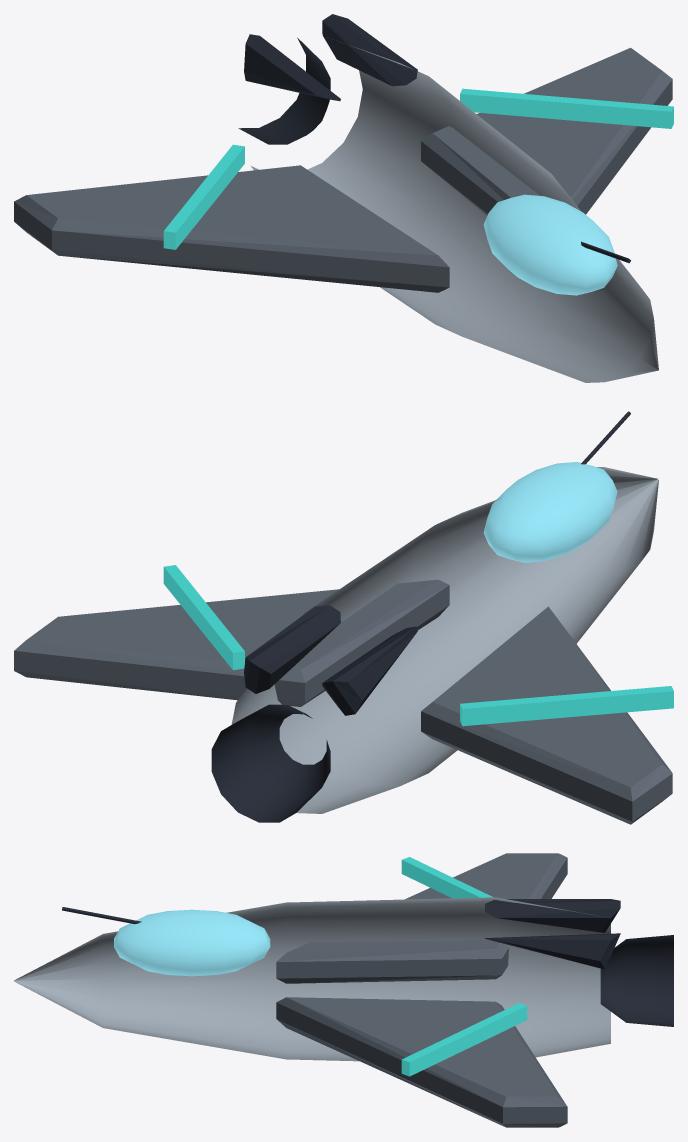
The model's file is scout.glb.
3 renders of one model, top to bottom at view 1: azimuth 30°, elevation 25°; view 2: azimuth 150°, elevation 25°; view 3: azimuth 270°, elevation 25°, orthographic. The views are drawn at different scales.
Visible parts, largest first — view 1: scout; view 2: scout; view 3: scout.
Boxes of the visible parts, x1,y1,x2,y2 form: scout: [14, 14, 673, 382]; scout: [14, 411, 673, 824]; scout: [14, 853, 673, 1127].
Size of the model in its own units: 1.13 by 0.32 by 1.26.
